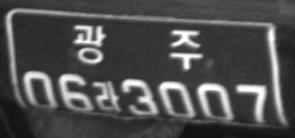0: (22, 69, 58, 110), (160, 80, 197, 119), (198, 81, 233, 122)
3: (120, 78, 159, 117)
6: (58, 71, 94, 111)
7: (235, 82, 268, 125)
광주_D: (73, 23, 203, 70)
라: (95, 79, 120, 114)
